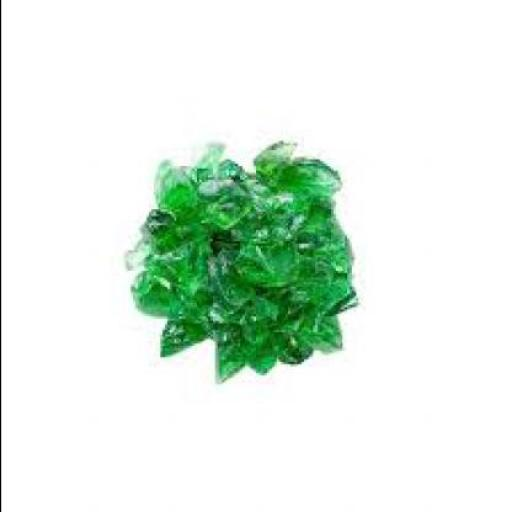glass: (150, 189, 214, 261), (212, 289, 286, 346), (227, 230, 294, 291), (128, 275, 214, 321), (259, 196, 323, 244), (270, 164, 340, 206), (291, 208, 339, 262), (312, 221, 348, 293), (170, 255, 212, 314), (262, 284, 312, 332), (152, 323, 216, 360), (234, 328, 273, 385), (264, 320, 307, 368), (303, 280, 351, 322), (206, 339, 244, 391), (250, 142, 296, 184), (125, 241, 173, 280), (148, 164, 190, 206), (288, 321, 336, 355), (200, 198, 254, 228), (189, 148, 223, 190), (139, 211, 169, 253), (211, 166, 251, 193)
